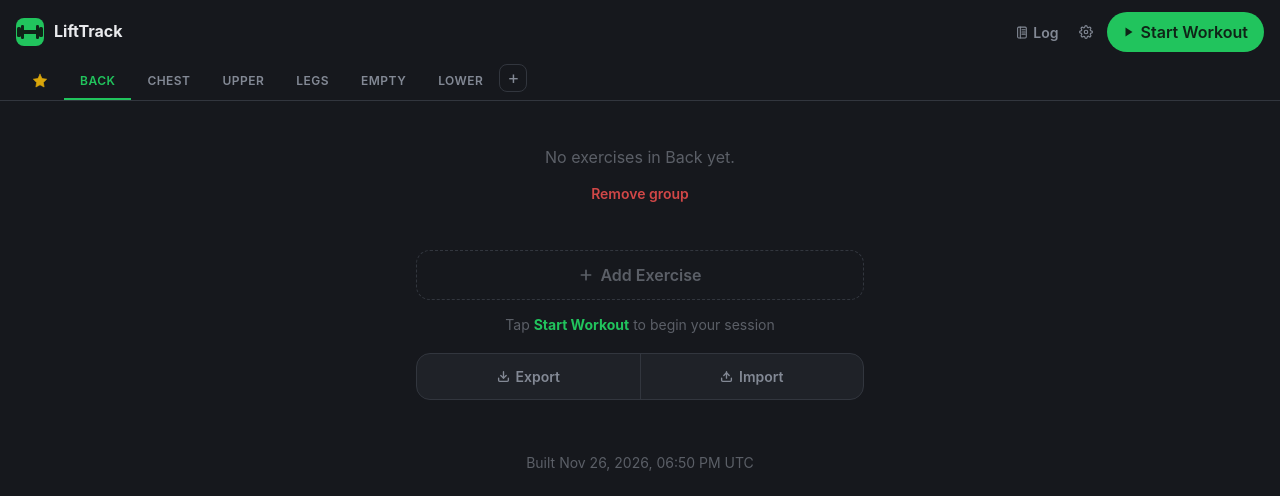
Test: remove group › confirming removes the group tab
The image size is (1280, 496).
Click the button with test id "tab-empty": point(384, 82) [345,64,422,100]
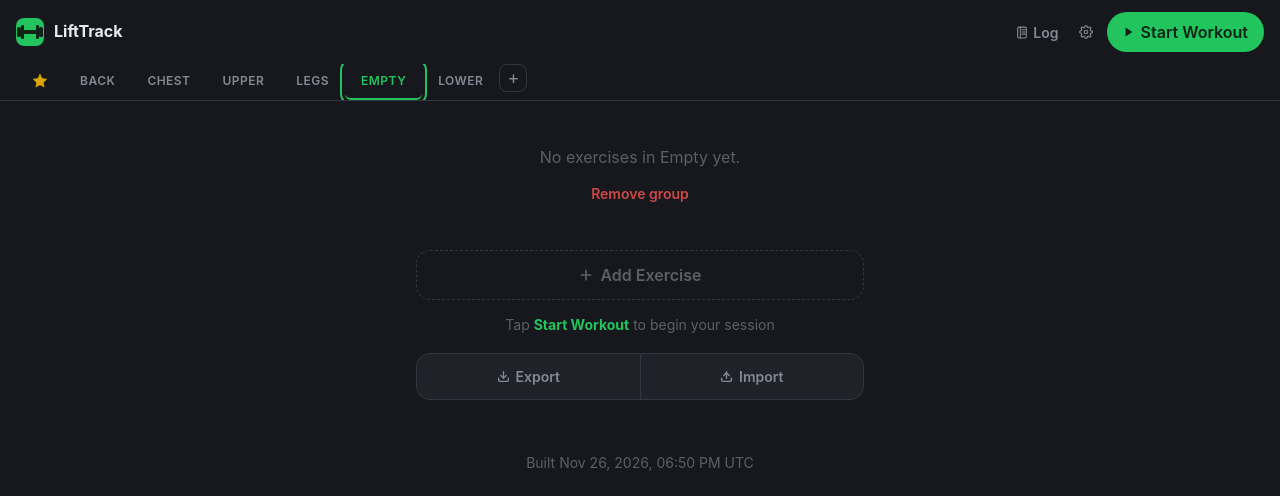
Click the button with test id "btn-remove-group": point(640, 194) [591,183,689,204]
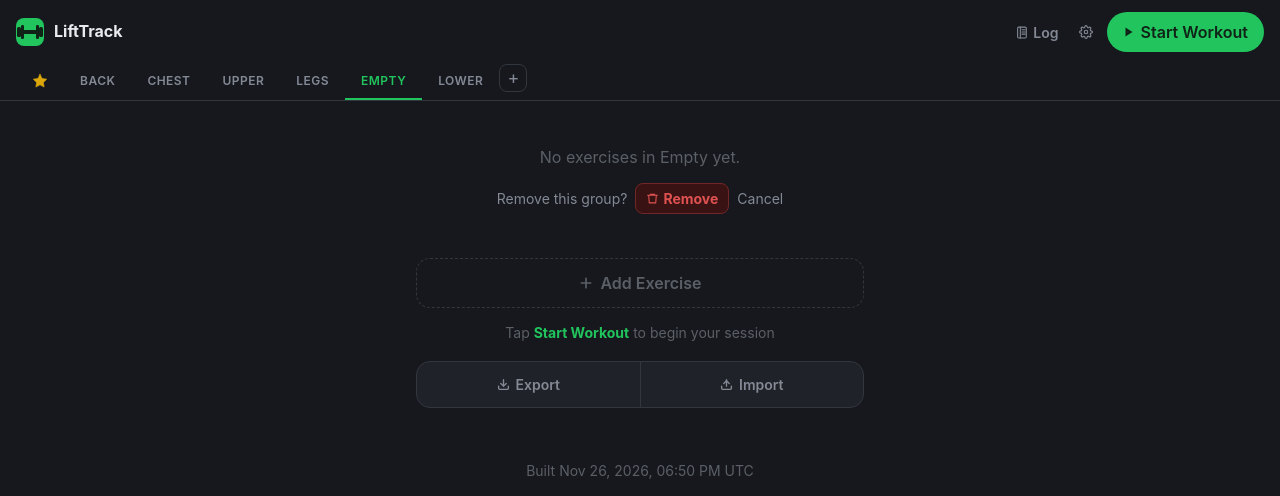
Click the button with test id "btn-remove-group-confirm": point(682, 198) [635,183,729,214]
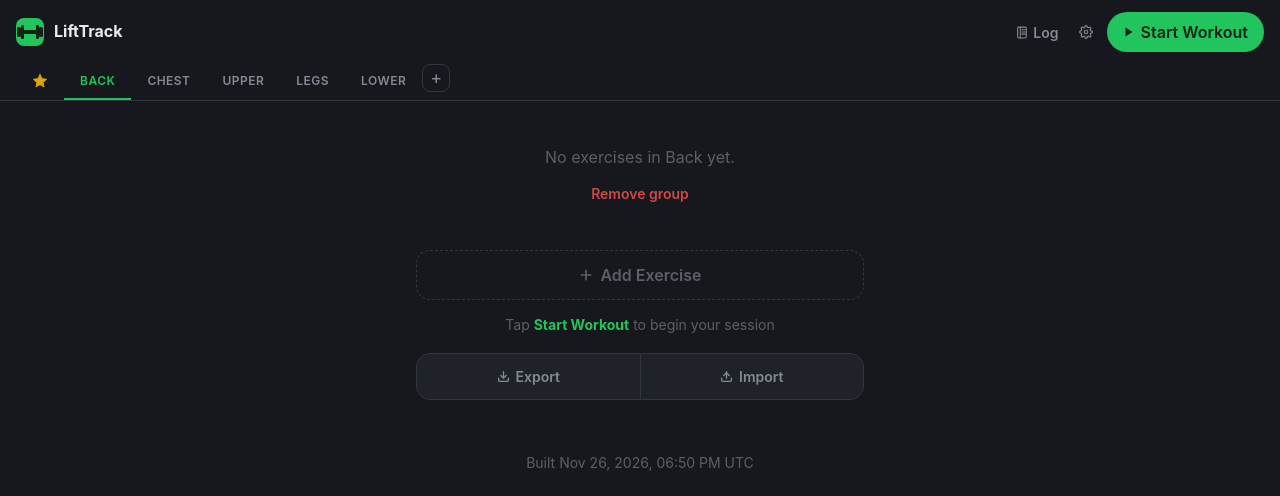
expect the button with test id "tab-empty" is gone: met
